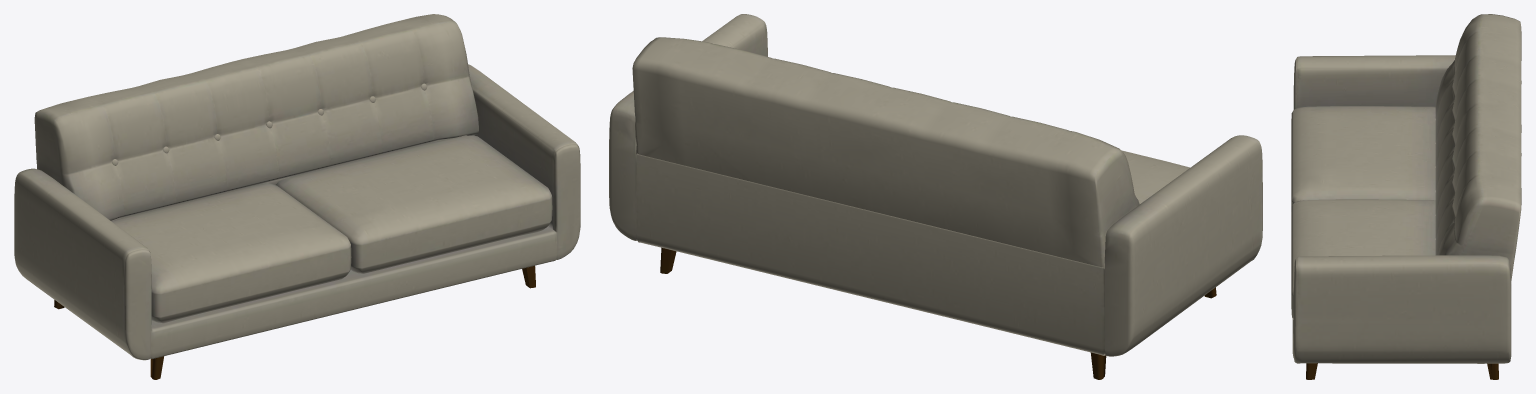
Rendered from sofa_abo_B072PZC1KS.glb.
3 views of the same model, side by side, from view 1: azimuth 30°, elevation 25°; view 2: azimuth 150°, elevation 25°; view 3: azimuth 270°, elevation 25° (orthographic). The views are drawn at different scales.
Visible parts, largest first — view 1: RootNode; view 2: RootNode; view 3: RootNode.
Part boxes in pixels (left/top/right/bottom): RootNode: left=14, top=14, right=580, bottom=379; RootNode: left=609, top=14, right=1262, bottom=379; RootNode: left=1291, top=14, right=1521, bottom=379.
Size of the model in its own units: 2.14 by 0.8916 by 0.9806.
Materials: 1 (1 with a texture image).
